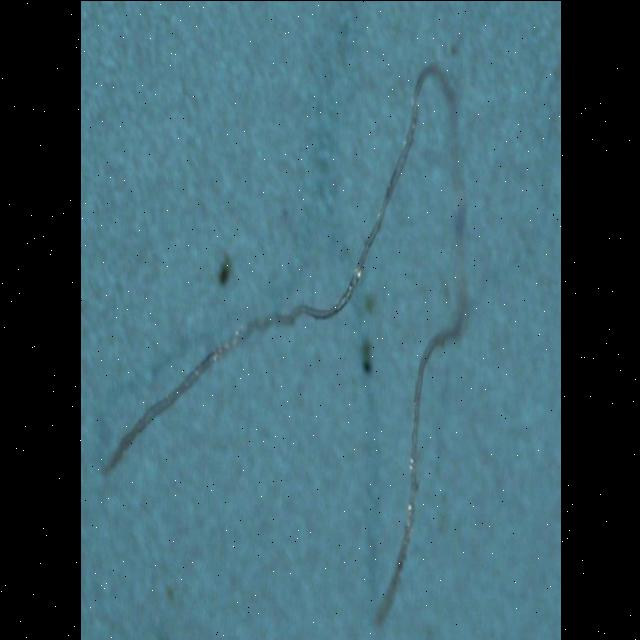Fibre: (102, 59, 470, 626)
